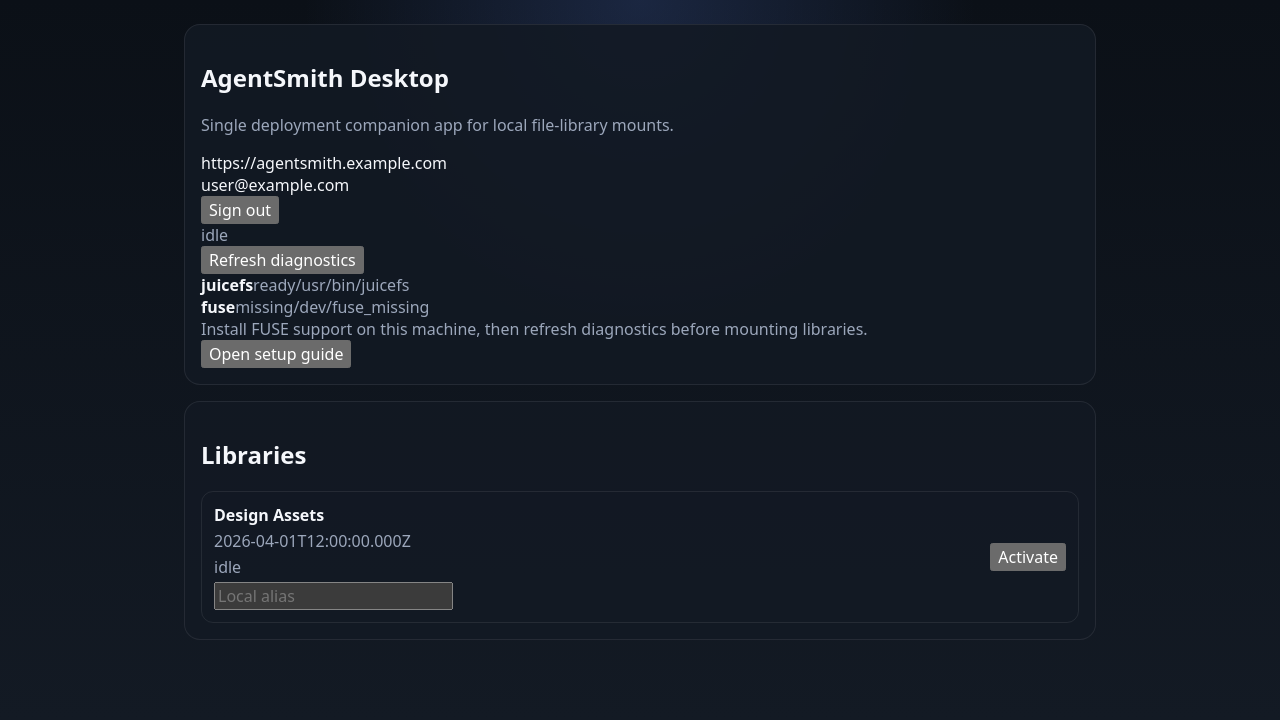
App › blocks mount activation when doctor prerequisites are missing
Expected: the element with test id "desktop__library--lib_2" is shown, x1=201 y1=491 x2=1079 y2=623
Click the button with test id "desktop__library-toggle--lib_2" at (1028, 557), box x1=990 y1=543 x2=1066 y2=571
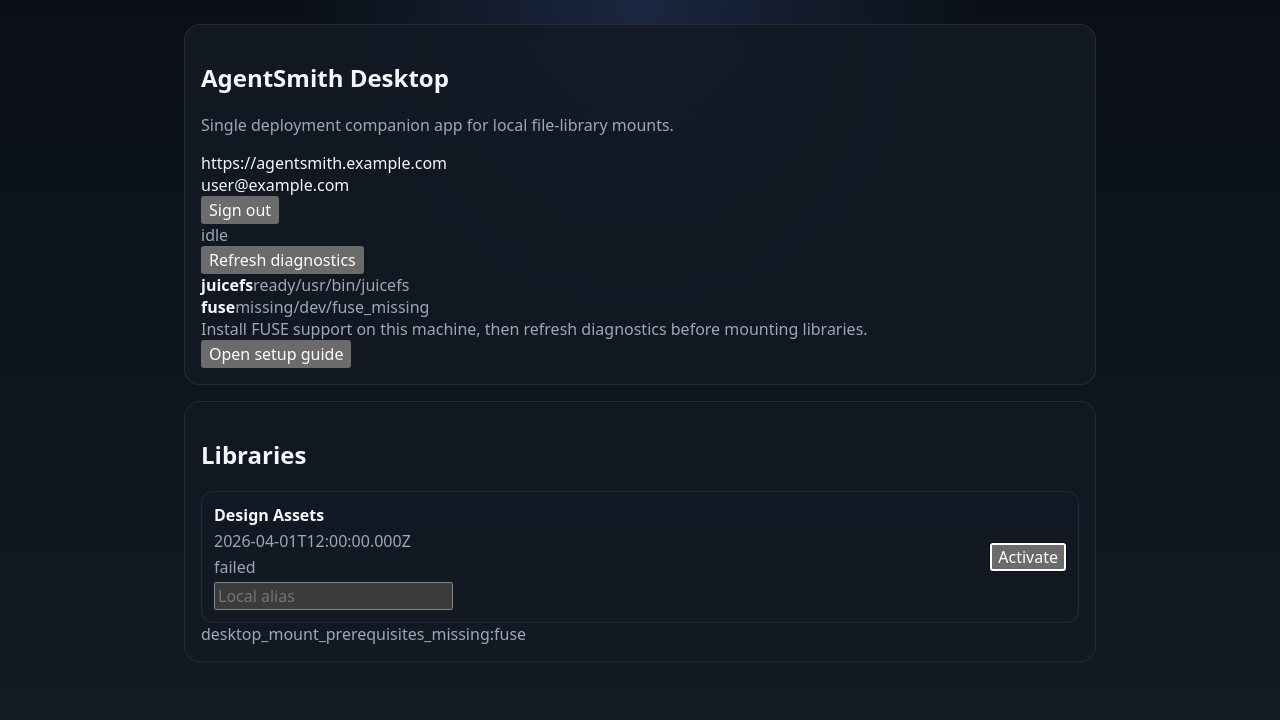
Result: the text with test id "desktop__library-mount-state--lib_2" reads "failed" at x1=214 y1=556 x2=256 y2=578
Result: the text with test id "desktop__diagnostics" reads "desktop_mount_prerequisites_missing:fuse" at x1=201 y1=623 x2=526 y2=645
